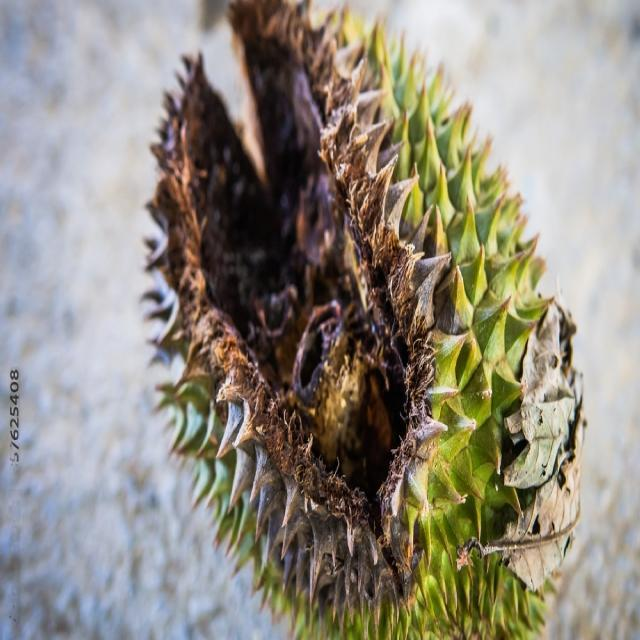defective: (144, 0, 582, 638)
